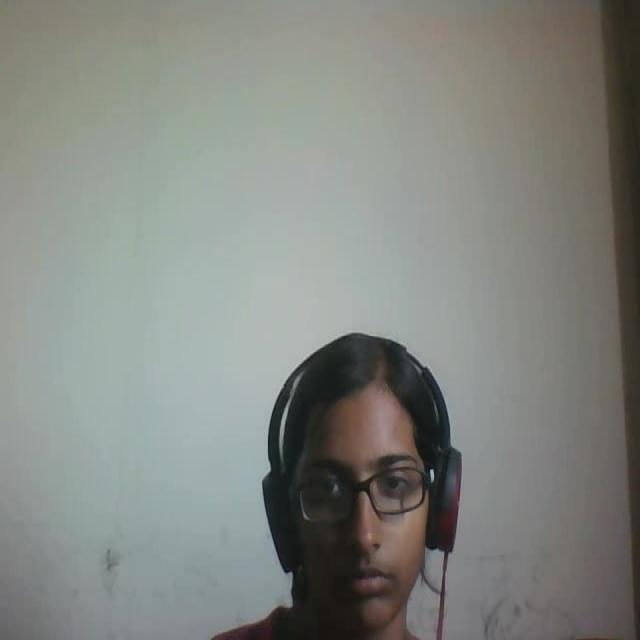Engaged: (238, 300, 502, 640)
